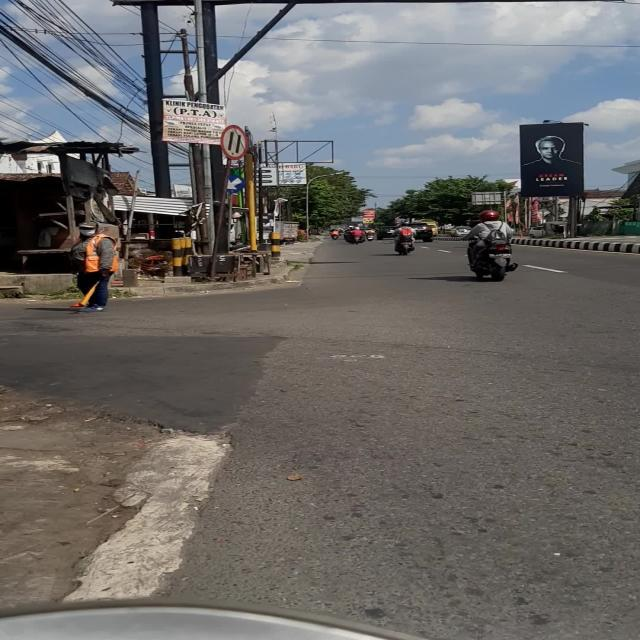Larangan Muatan - 10 ton: (221, 124, 247, 160)
